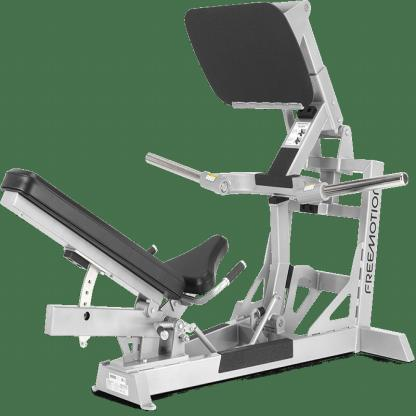leg press: (0, 3, 408, 416)
